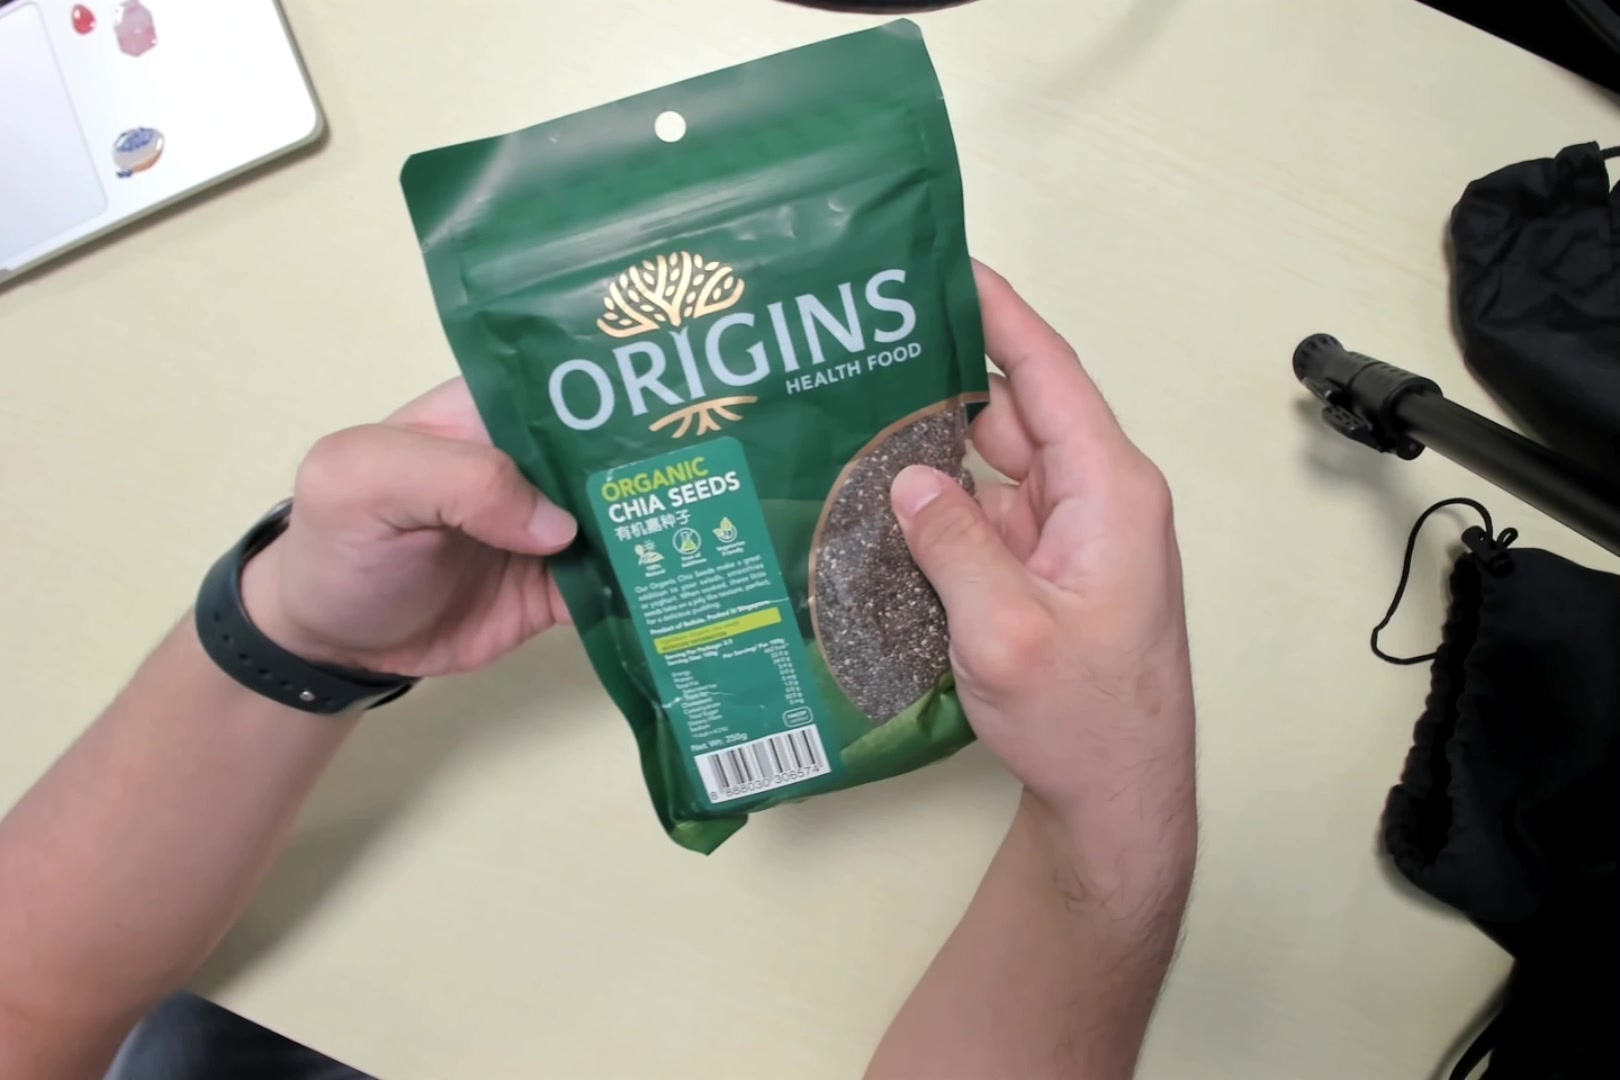OtherDriedFood_200-299g_NonHalal_NonHealthy: (439, 34, 1002, 849)
